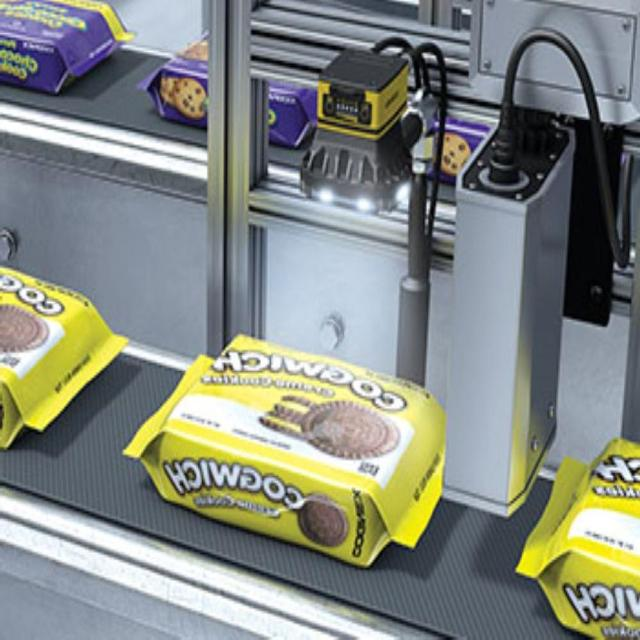food: (122, 331, 448, 570), (514, 435, 639, 638), (0, 261, 129, 452), (0, 0, 135, 97)
